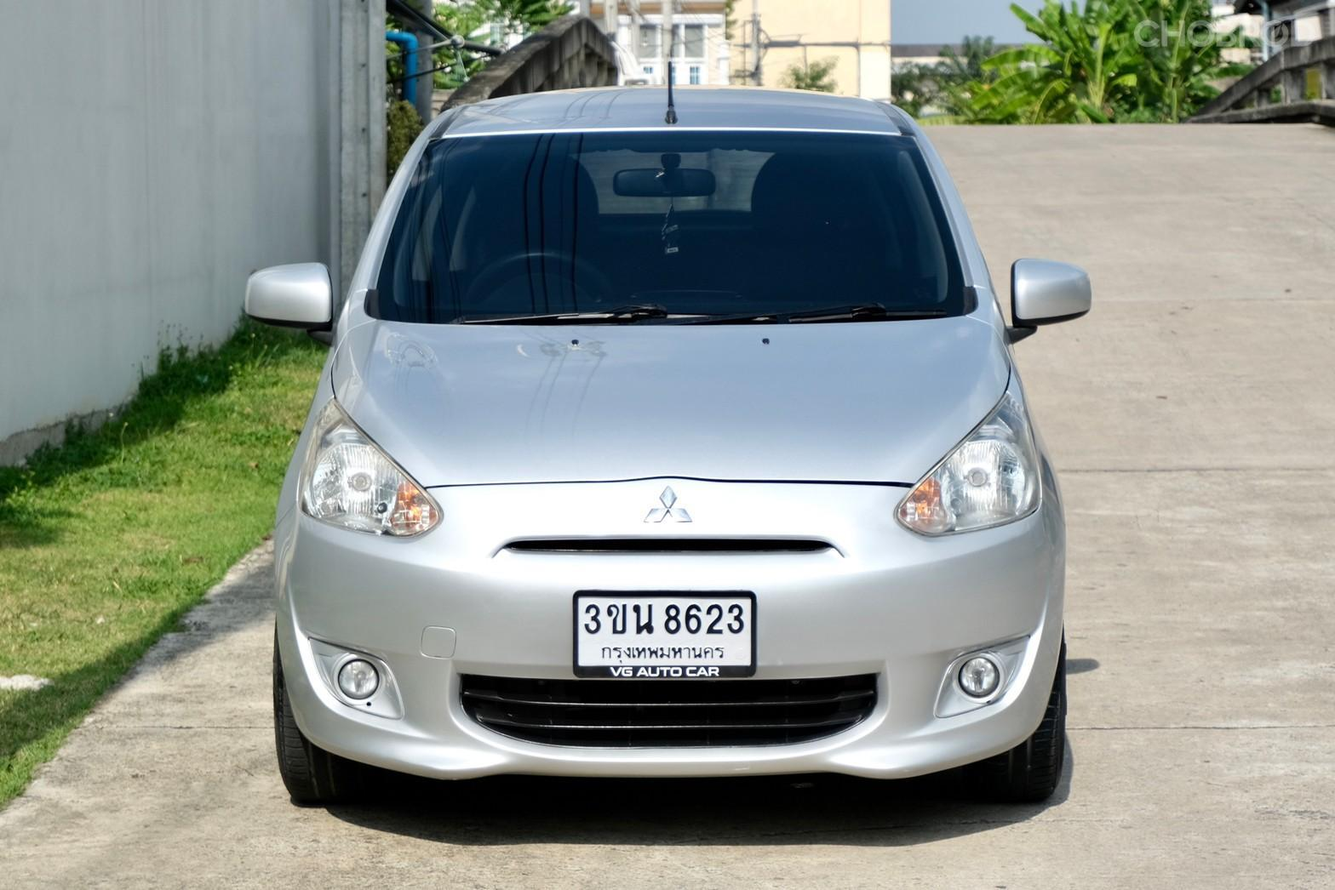license-plate: (572, 588, 756, 678)
